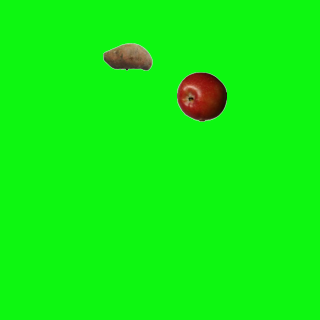Apple Braeburn: (176, 71, 226, 121)
Potato Sweet: (102, 31, 152, 81)
